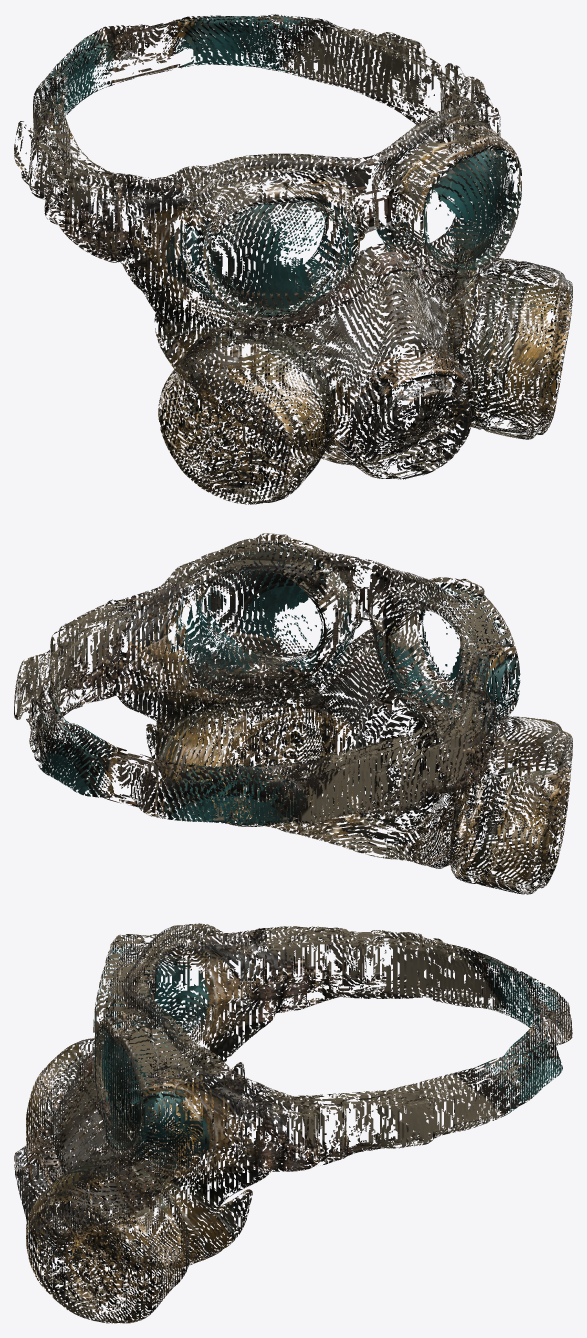
File: mask.fbx
3 renders of one model, top to bottom at view 1: azimuth 30°, elevation 25°; view 2: azimuth 150°, elevation 25°; view 3: azimuth 270°, elevation 25°, orthographic. The views are drawn at different scales.
Parts seen in each view (by area): view 1: geometry_0; view 2: geometry_0; view 3: geometry_0.
Part boxes in pixels (x1=…): geometry_0: x1=14, y1=14, x2=572, y2=504; geometry_0: x1=14, y1=533, x2=572, y2=894; geometry_0: x1=14, y1=923, x2=572, y2=1323.
Bounding box in the file's own units: 160 × 112 × 199.
1 material, 1 textured.
